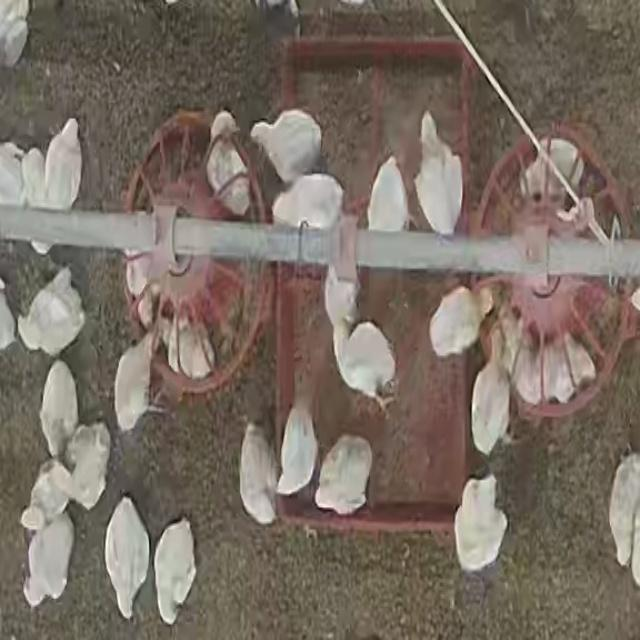chicken: (332, 319, 404, 412), (100, 496, 153, 622), (17, 270, 94, 352), (109, 332, 170, 428), (414, 121, 464, 237), (455, 473, 511, 573), (425, 282, 498, 358), (152, 514, 200, 629), (22, 512, 76, 608), (469, 342, 512, 458), (251, 112, 328, 176), (313, 434, 373, 515), (270, 173, 346, 235), (209, 112, 253, 217), (238, 422, 280, 526), (517, 135, 585, 198), (536, 332, 596, 402), (276, 403, 319, 499), (162, 306, 216, 382), (48, 115, 90, 208), (39, 362, 79, 458), (69, 424, 111, 512), (365, 156, 409, 233), (20, 464, 72, 528), (324, 262, 360, 342)
